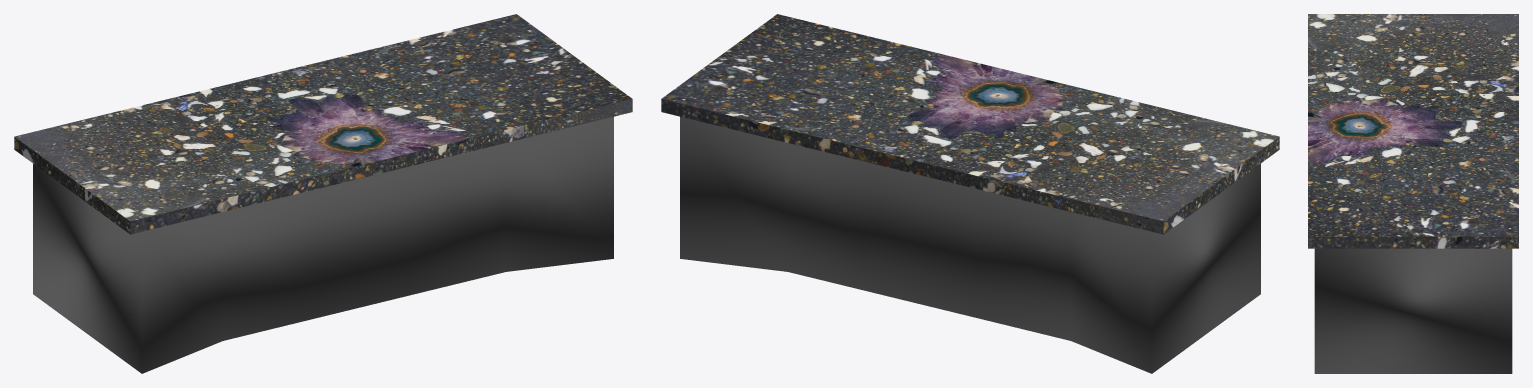
File: initOne.glb
3 views of the same model, side by side, from view 1: azimuth 30°, elevation 25°; view 2: azimuth 150°, elevation 25°; view 3: azimuth 270°, elevation 25° (orthographic). The views are drawn at different scales.
Visible parts, largest first — view 1: Cube; view 2: Cube; view 3: Cube.
Part boxes in pixels (left/top/right/bottom): Cube: left=14, top=14, right=632, bottom=373; Cube: left=661, top=14, right=1279, bottom=373; Cube: left=1308, top=14, right=1518, bottom=373.
Bounding box in the file's own units: 1.06 × 0.3215 × 0.4258.
Materials: 2 (1 with a texture image).
